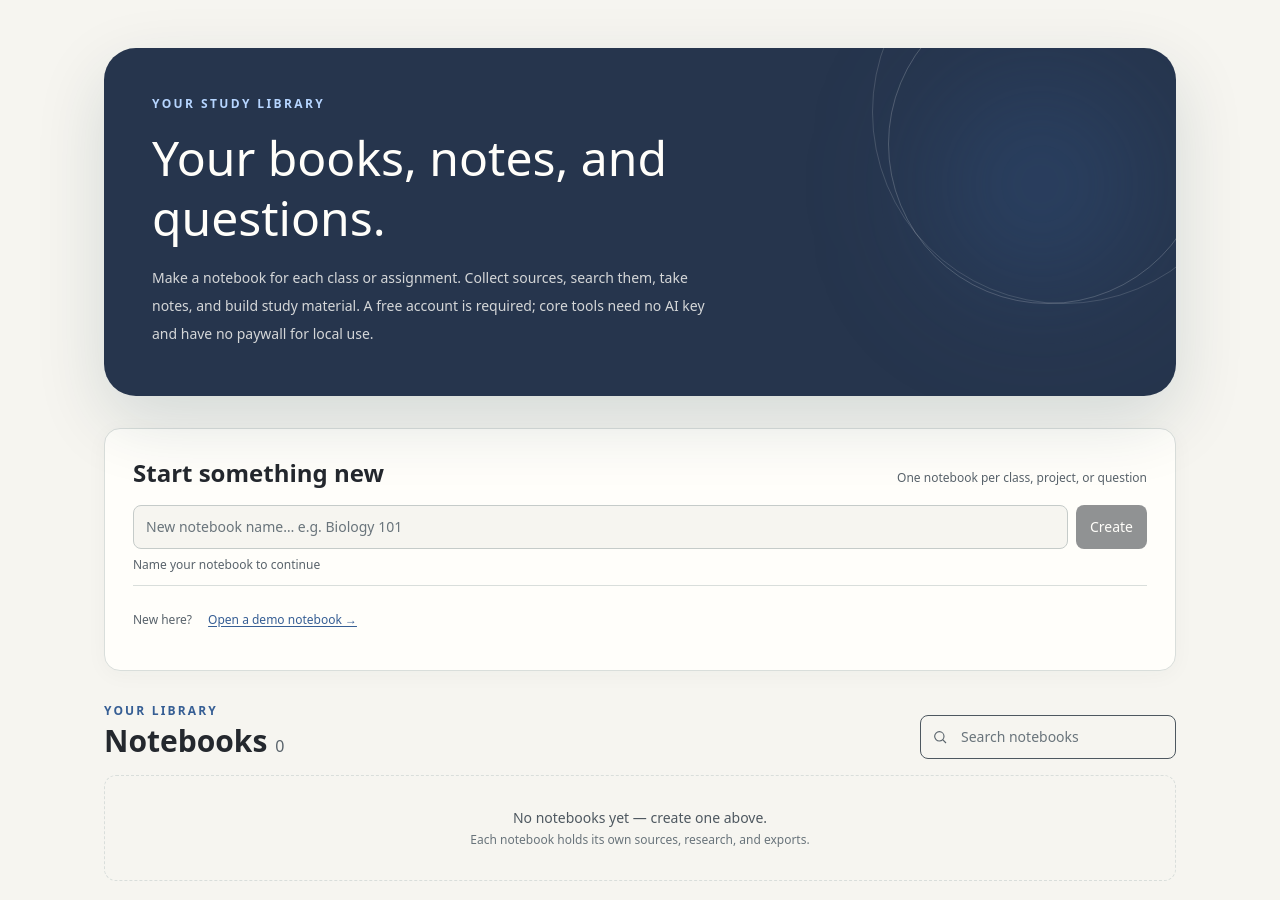
Test: lifts the explanation once a name is typed
In the field with placeholder "New notebook name… e.g. Biology 101": (600, 527) [133,505,1068,549], type "Biology 101"
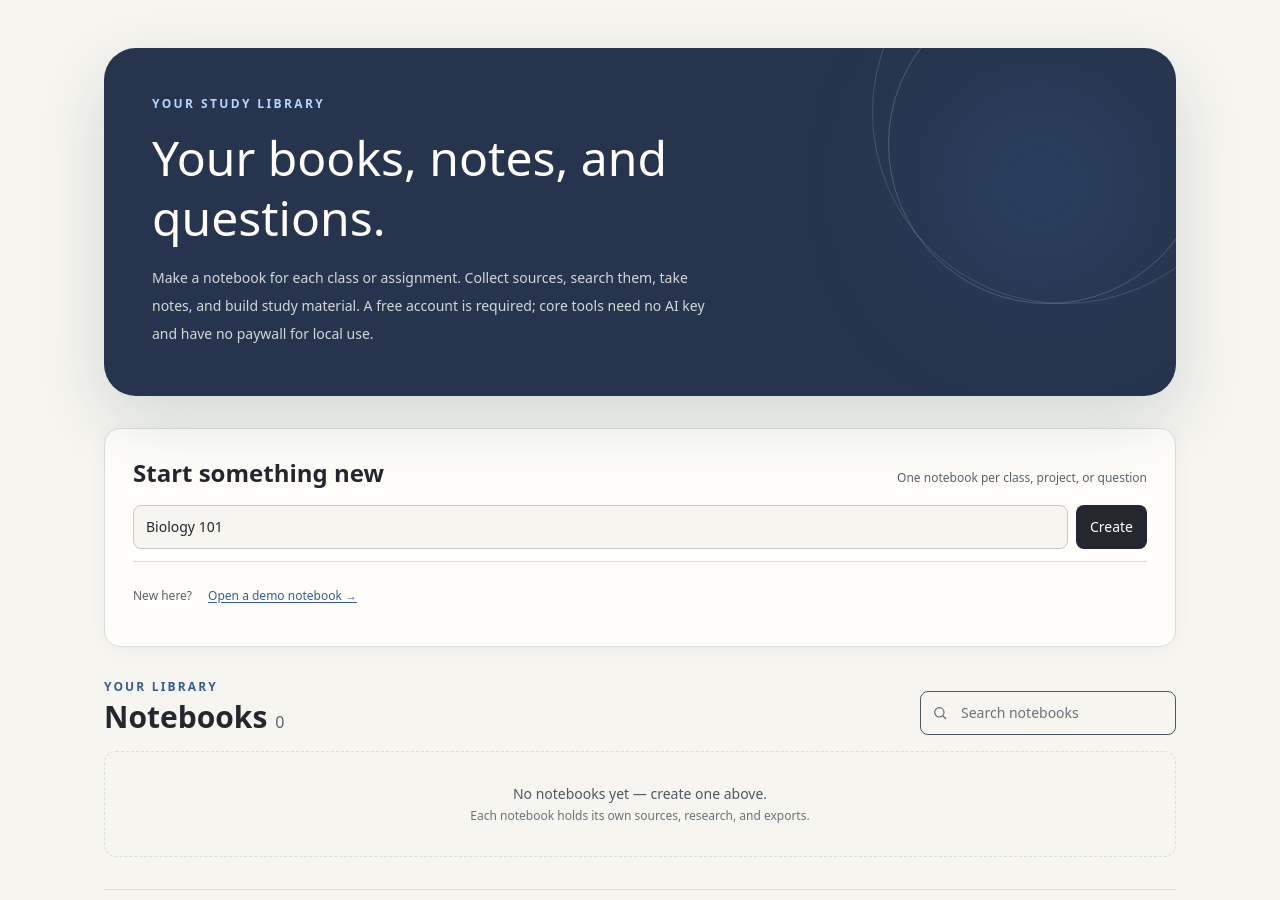
Check: the text "Name your notebook to continue" is gone
Check: the button "Create" is enabled, box [1076,505,1147,549]
